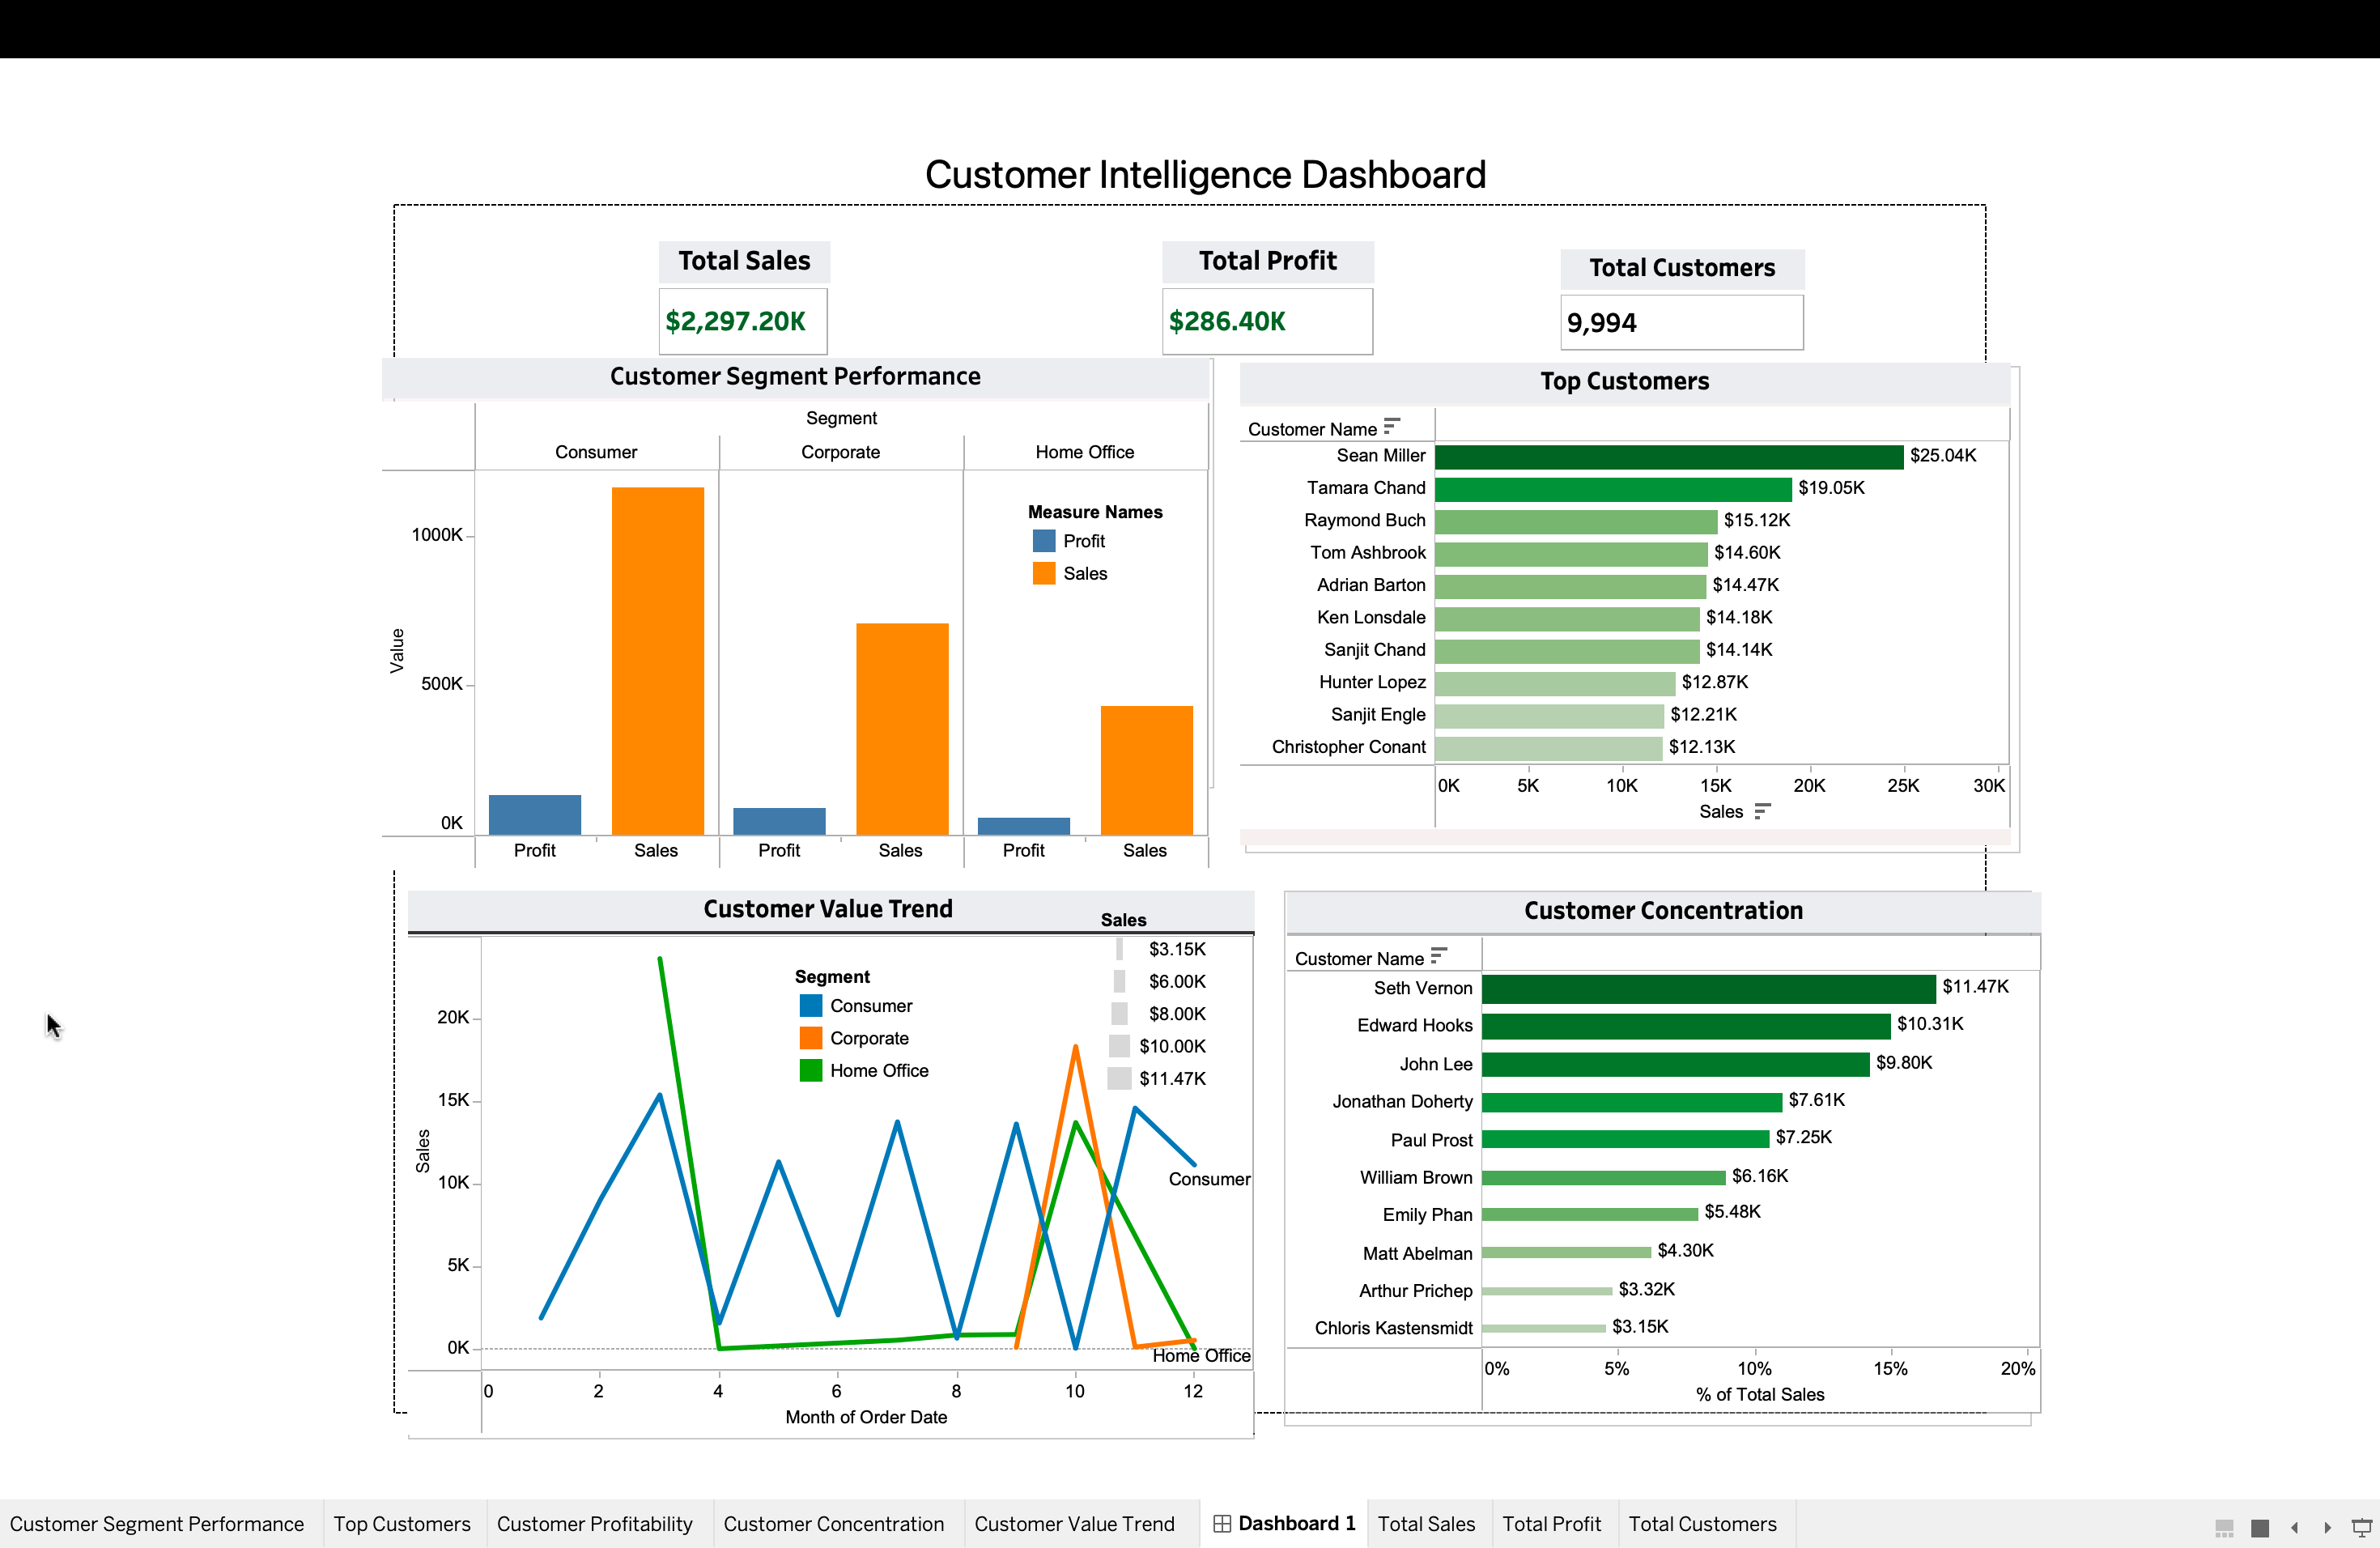

The page's visual inventory and layout, read from the dashboard file:
{"tool":"tableau","page":{"name":"Dashboard 1","canvas":[1000,800],"ordinal":0},"visuals":[{"type":"title","box":[8,8,984,37]},{"type":"worksheet","title":"Total Sales","mark":"Automatic","box":[172,68,106,71]},{"type":"worksheet","title":"Total Profit","mark":"Automatic","box":[483,68,131,71]},{"type":"worksheet","title":"Total Customers","mark":"Automatic","box":[729,73,151,63]},{"type":"worksheet","title":"Customer Segment Performance","mark":"Automatic","cols":["Segment"],"box":[1,140,511,316]},{"type":"legend","title":"Customer Segment Performance","param":"[federated.1jdbaen1phn62g1h6casf19xotpk].[:Measure Names]","box":[400,229,100,60]},{"type":"legend","title":"Customer Concentration","param":"[federated.1jdbaen1phn62g1h6casf19xotpk].[sum:Sales:qk]","box":[445,481,95,138]},{"type":"legend","title":"Customer Value Trend ","param":"[federated.1jdbaen1phn62g1h6casf19xotpk].[none:Segment:nk]","box":[256,516,140,78]}]}

Visuals, with their boxes on the page's 1000x800 design canvas (x1, y1, x2, y2). These are canvas units, not pixel positions in the 2380x1548 screenshot, which may show the page scaled, cropped or inside an application window:
title: box=[8, 8, 992, 45]
"Total Sales" worksheet: box=[172, 68, 278, 139]
"Total Profit" worksheet: box=[483, 68, 614, 139]
"Total Customers" worksheet: box=[729, 73, 880, 136]
"Customer Segment Performance" worksheet: box=[1, 140, 512, 456]
"Customer Segment Performance" legend: box=[400, 229, 500, 289]
"Customer Concentration" legend: box=[445, 481, 540, 619]
"Customer Value Trend " legend: box=[256, 516, 396, 594]
